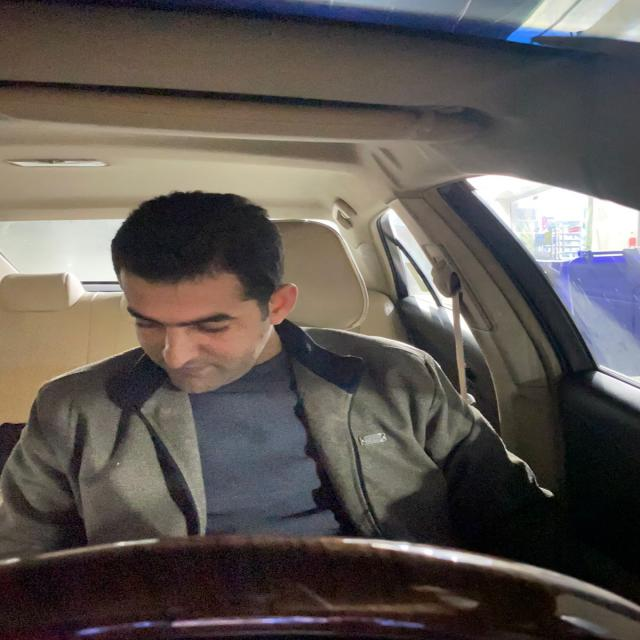drowsy: (107, 188, 302, 396)
